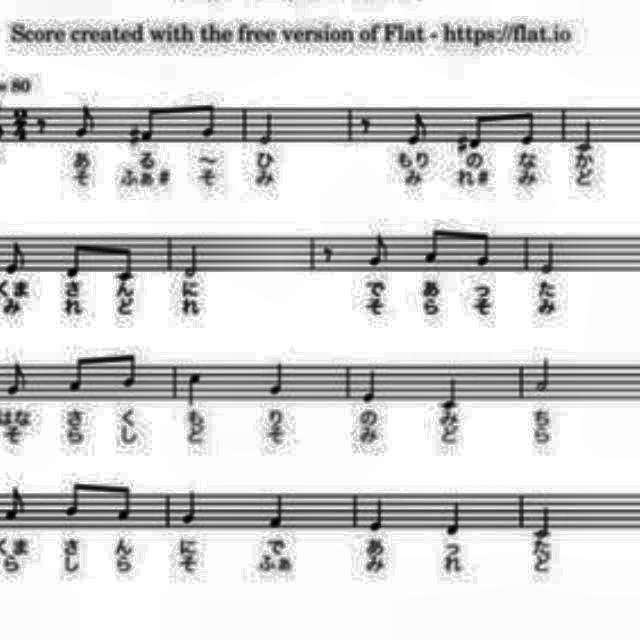Eighth-note: (420, 221, 452, 269), (368, 223, 396, 273), (512, 106, 544, 148), (137, 99, 165, 147), (62, 475, 88, 523), (403, 106, 431, 150), (70, 100, 98, 144), (1, 359, 33, 397), (472, 222, 496, 272), (197, 97, 223, 143), (4, 480, 30, 524), (4, 238, 32, 278), (114, 237, 138, 283), (464, 110, 488, 154), (115, 476, 135, 528), (118, 349, 142, 391), (61, 237, 84, 280), (65, 356, 89, 396)
Eighth-rest: (355, 112, 377, 140), (316, 242, 339, 266), (32, 114, 52, 138)
Half-note: (178, 238, 210, 278), (526, 500, 554, 542), (254, 105, 278, 152), (537, 237, 563, 280), (574, 116, 598, 156), (535, 352, 555, 396)
Quarter-note: (443, 495, 473, 539), (175, 369, 205, 409), (268, 488, 292, 532), (180, 485, 203, 529), (264, 364, 292, 400), (359, 364, 383, 406), (436, 374, 464, 410), (366, 493, 390, 535)
